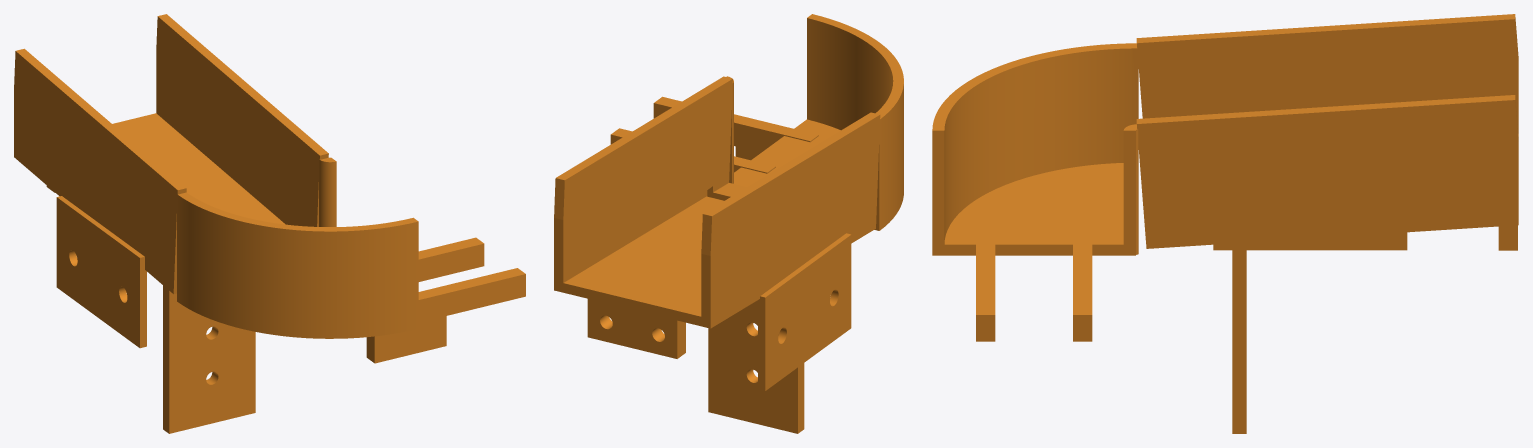
File: mag_carga.glb
3 views of the same model, side by side, from view 1: azimuth 30°, elevation 25°; view 2: azimuth 150°, elevation 25°; view 3: azimuth 270°, elevation 25° (orthographic). The views are drawn at different scales.
Parts seen in each view (by area): view 1: mag_carga; view 2: mag_carga; view 3: mag_carga.
Part boxes in pixels (box(x1,y1,x2,y2)): mag_carga: box(14, 14, 525, 433); mag_carga: box(554, 14, 903, 433); mag_carga: box(932, 14, 1518, 433).
Size of the model in its own units: 79 by 80.26 by 121.
